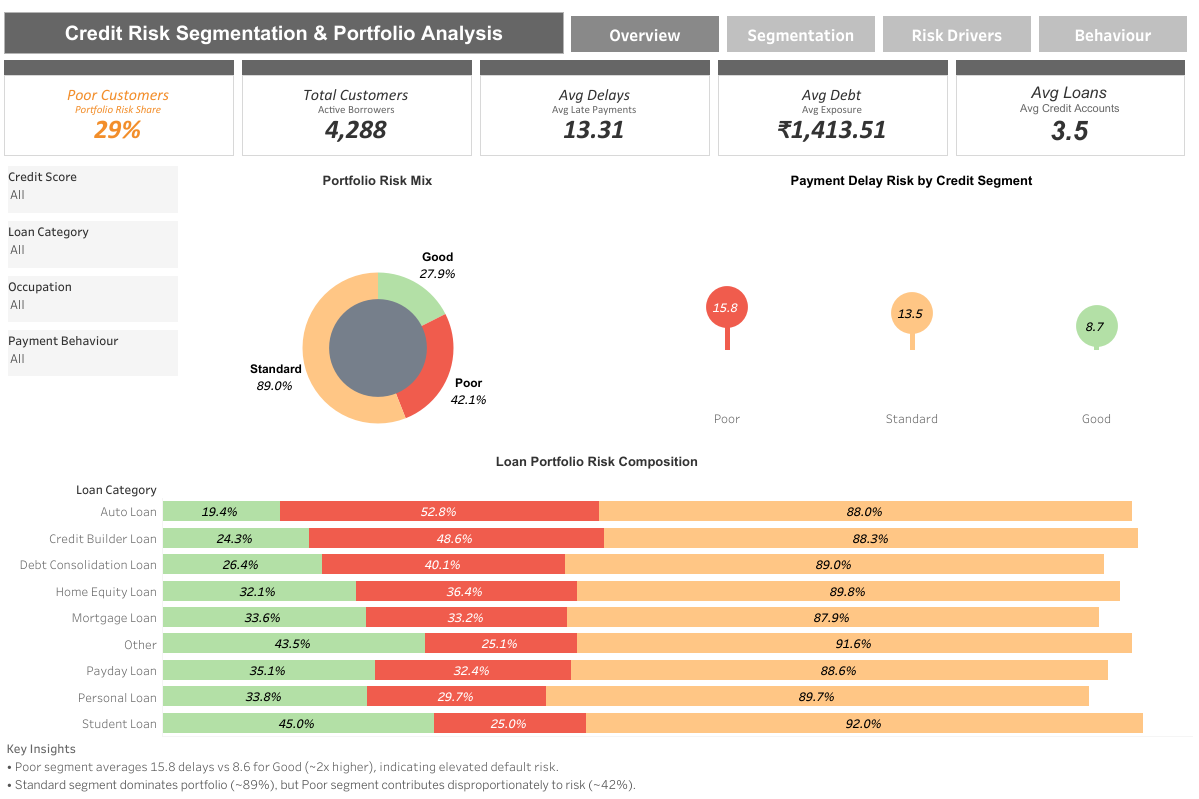

The page's visual inventory and layout, read from the dashboard file:
{"tool":"tableau","page":{"name":"Paisabazaar Credit Risk Segmentation & Portfolio Analysis","canvas":[1200,800],"ordinal":3},"visuals":[{"type":"text","box":[4,12,560,42]},{"type":"dashboard-object","box":[567,12,156,44]},{"type":"dashboard-object","box":[723,12,156,44]},{"type":"dashboard-object","box":[879,12,156,44]},{"type":"dashboard-object","box":[1035,12,156,44]},{"type":"worksheet","title":"KPI 2 — % Poor Customers","mark":"Automatic","box":[0,56,238,104]},{"type":"worksheet","title":"KPI 1 — Total Customers","mark":"Automatic","box":[238,56,238,104]},{"type":"worksheet","title":"KPI – Avg Delays","mark":"Automatic","box":[476,56,238,104]},{"type":"worksheet","title":"KPI – Avg Debt","mark":"Automatic","box":[714,56,238,104]},{"type":"worksheet","title":"KPI – Avg Loans","mark":"Automatic","box":[952,56,237,104]},{"type":"filter","title":"Portfolio Risk Mix","param":"[federated.15f112y1ovy6xx0zsyzso0p85ix3].[none:Credit_Score:nk]","box":[4,162,178,55]},{"type":"worksheet","title":"Portfolio Risk Mix","mark":"Pie","cols":["Calculation_792070630996058120","Calculation_792070630996287499"],"box":[126,167,504,332]},{"type":"worksheet","title":"Payment Delay Risk by Credit Segment","mark":"Circle","rows":["Num_of_Delayed_Payment","Num_of_Delayed_Payment"],"cols":["Credit_Score"],"box":[635,167,554,260]},{"type":"filter","title":"Loan Portfolio Risk Composition","param":"[federated.15f112y1ovy6xx0zsyzso0p85ix3].[none:Calculation_1417508029693423616:n","box":[4,217,178,55]},{"type":"filter","title":"Payment Delay Risk by Credit Segment","param":"[federated.15f112y1ovy6xx0zsyzso0p85ix3].[none:Occupation:nk]","box":[4,272,178,54]},{"type":"filter","title":"KPI 1 — Total Customers","param":"[federated.15f112y1ovy6xx0zsyzso0p85ix3].[none:Payment_Behaviour:nk]","box":[4,326,178,54]},{"type":"worksheet","title":"Loan Portfolio Risk Composition","mark":"Automatic","rows":["Calculation_1417508029693423616"],"box":[2,448,1190,288]},{"type":"text","box":[4,735,641,61]}]}

Visuals, with their boxes in screenshot pixels (x1, y1, x2, y2), scaled from the page's 1200x800 canvas onto the 1199x799 screenshot:
text: l=4, t=12, r=564, b=54
dashboard-object: l=567, t=12, r=722, b=56
dashboard-object: l=722, t=12, r=878, b=56
dashboard-object: l=878, t=12, r=1034, b=56
dashboard-object: l=1034, t=12, r=1190, b=56
"KPI 2 — % Poor Customers" worksheet: l=0, t=56, r=238, b=160
"KPI 1 — Total Customers" worksheet: l=238, t=56, r=476, b=160
"KPI – Avg Delays" worksheet: l=476, t=56, r=713, b=160
"KPI – Avg Debt" worksheet: l=713, t=56, r=951, b=160
"KPI – Avg Loans" worksheet: l=951, t=56, r=1188, b=160
"Portfolio Risk Mix" filter: l=4, t=162, r=182, b=217
"Portfolio Risk Mix" worksheet (Pie marks): l=126, t=167, r=629, b=498
"Payment Delay Risk by Credit Segment" worksheet (Circle marks): l=634, t=167, r=1188, b=426
"Loan Portfolio Risk Composition" filter: l=4, t=217, r=182, b=272
"Payment Delay Risk by Credit Segment" filter: l=4, t=272, r=182, b=326
"KPI 1 — Total Customers" filter: l=4, t=326, r=182, b=380
"Loan Portfolio Risk Composition" worksheet: l=2, t=447, r=1191, b=735
text: l=4, t=734, r=644, b=795
